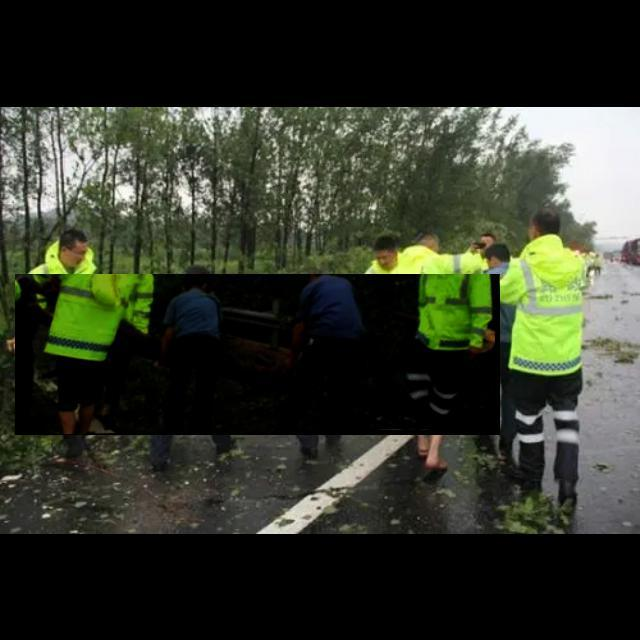fallen_tree: (15, 274, 501, 436)
